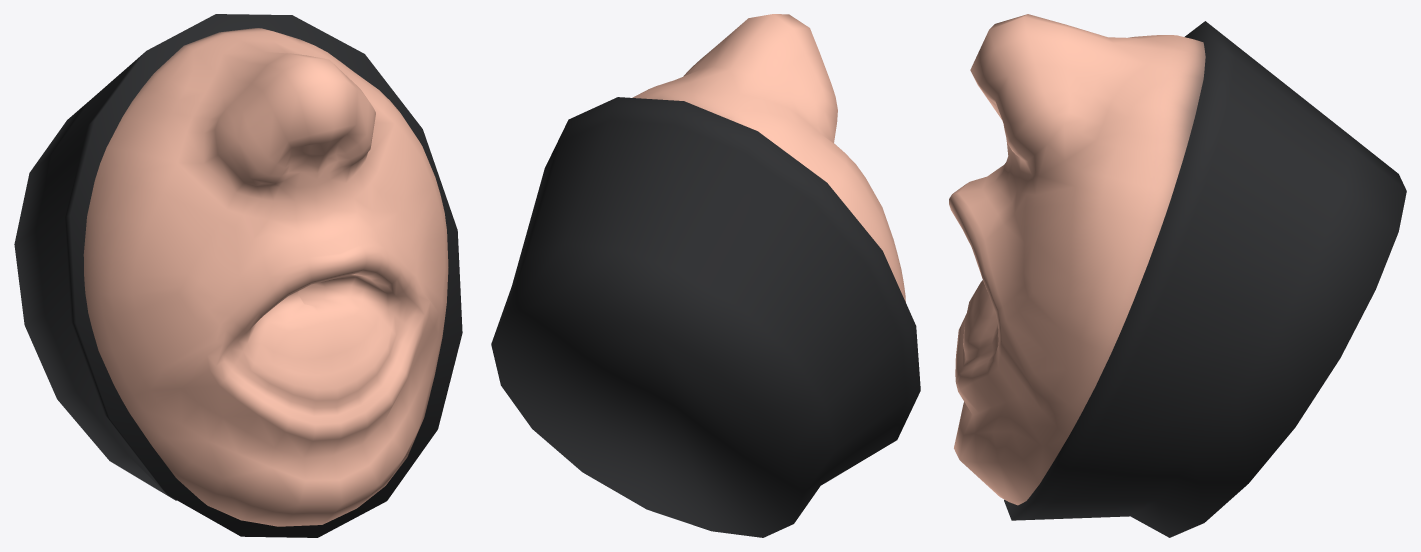
The model's file is MouthBroken.fbx.
3 renders of one model, left to right at view 1: azimuth 30°, elevation 25°; view 2: azimuth 150°, elevation 25°; view 3: azimuth 270°, elevation 25°, orthographic. The views are drawn at different scales.
Parts seen in each view (by area): view 1: BoquinhaBroken; view 2: BoquinhaBroken; view 3: BoquinhaBroken.
Part boxes in pixels (x1,y1,x2,y2): BoquinhaBroken: [14, 14, 462, 537]; BoquinhaBroken: [491, 14, 920, 537]; BoquinhaBroken: [949, 14, 1406, 537].
Size of the model in its own units: 8.81 by 10.84 by 8.93.
1 material, 1 textured.
